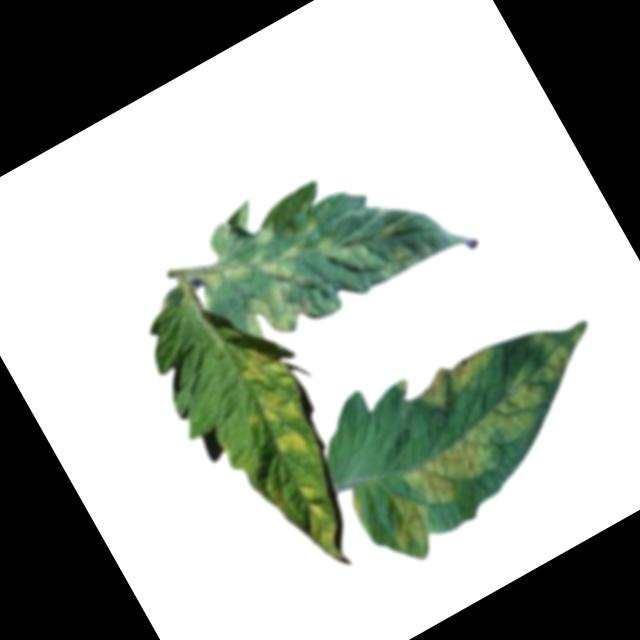Leaf_Mold: (338, 322, 621, 565), (196, 232, 322, 357), (413, 341, 508, 419), (285, 476, 358, 574), (238, 380, 307, 442), (231, 335, 296, 399), (313, 220, 367, 275), (268, 417, 318, 470), (282, 238, 311, 265)
